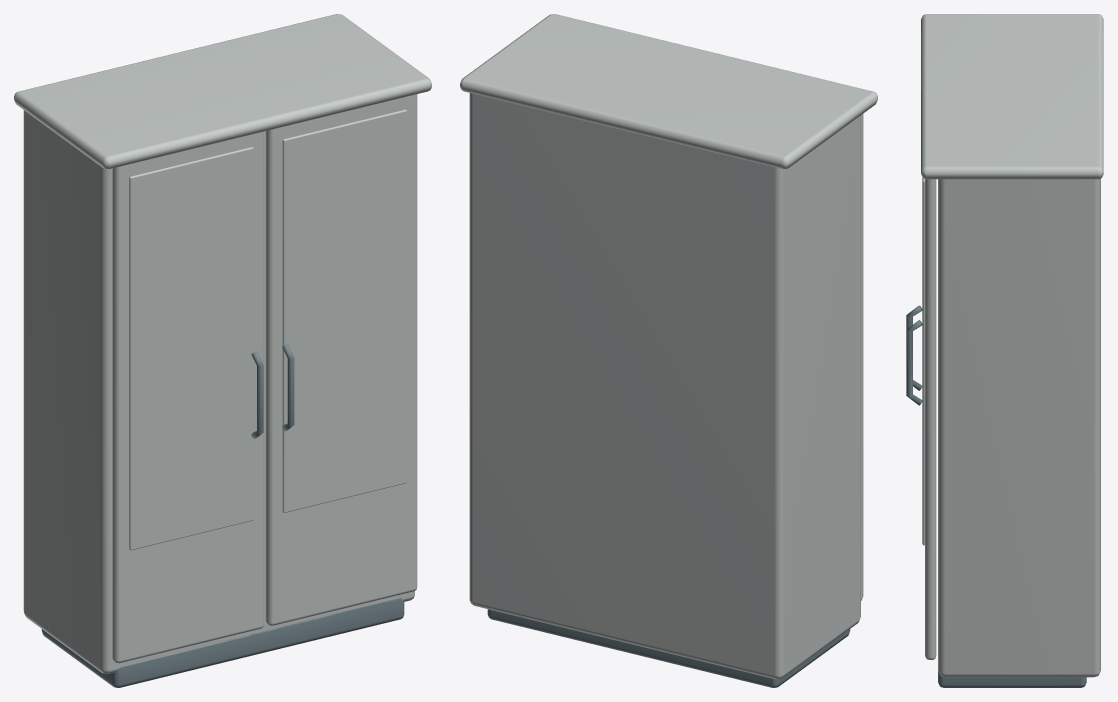
The model's file is wardrobe.glb.
3 renders of one model, left to right at view 1: azimuth 30°, elevation 25°; view 2: azimuth 150°, elevation 25°; view 3: azimuth 270°, elevation 25°, orthographic. The views are drawn at different scales.
Visible parts, largest first — view 1: cabinet, inset_panel_-0.303, inset_panel_0.303, cornice, door_0.303, door_-0.303, plinth, pull_0.303, pull_-0.303; view 2: cabinet, cornice, plinth, door_-0.303; view 3: cabinet, cornice, door_0.303, plinth, inset_panel_0.303, pull_0.303.
Boxes of the visible parts, x1,y1,x2,y2 form: cabinet: (23, 110, 414, 673); inset_panel_-0.303: (129, 147, 253, 550); inset_panel_0.303: (282, 109, 406, 512); cornice: (14, 14, 431, 169); door_0.303: (265, 94, 417, 625); door_-0.303: (112, 131, 263, 663); plinth: (41, 598, 404, 687); pull_0.303: (282, 344, 294, 431); pull_-0.303: (251, 351, 263, 438); cabinet: (469, 93, 860, 679); cornice: (460, 14, 877, 169); plinth: (487, 609, 850, 687); door_-0.303: (861, 114, 863, 600); cabinet: (938, 161, 1100, 677); cornice: (921, 14, 1103, 179); door_0.303: (925, 179, 936, 659); plinth: (938, 671, 1086, 687); inset_panel_0.303: (922, 177, 924, 545); pull_0.303: (906, 320, 922, 405).
Size of the model in its own units: 1.3 by 2.05 by 0.6919.
